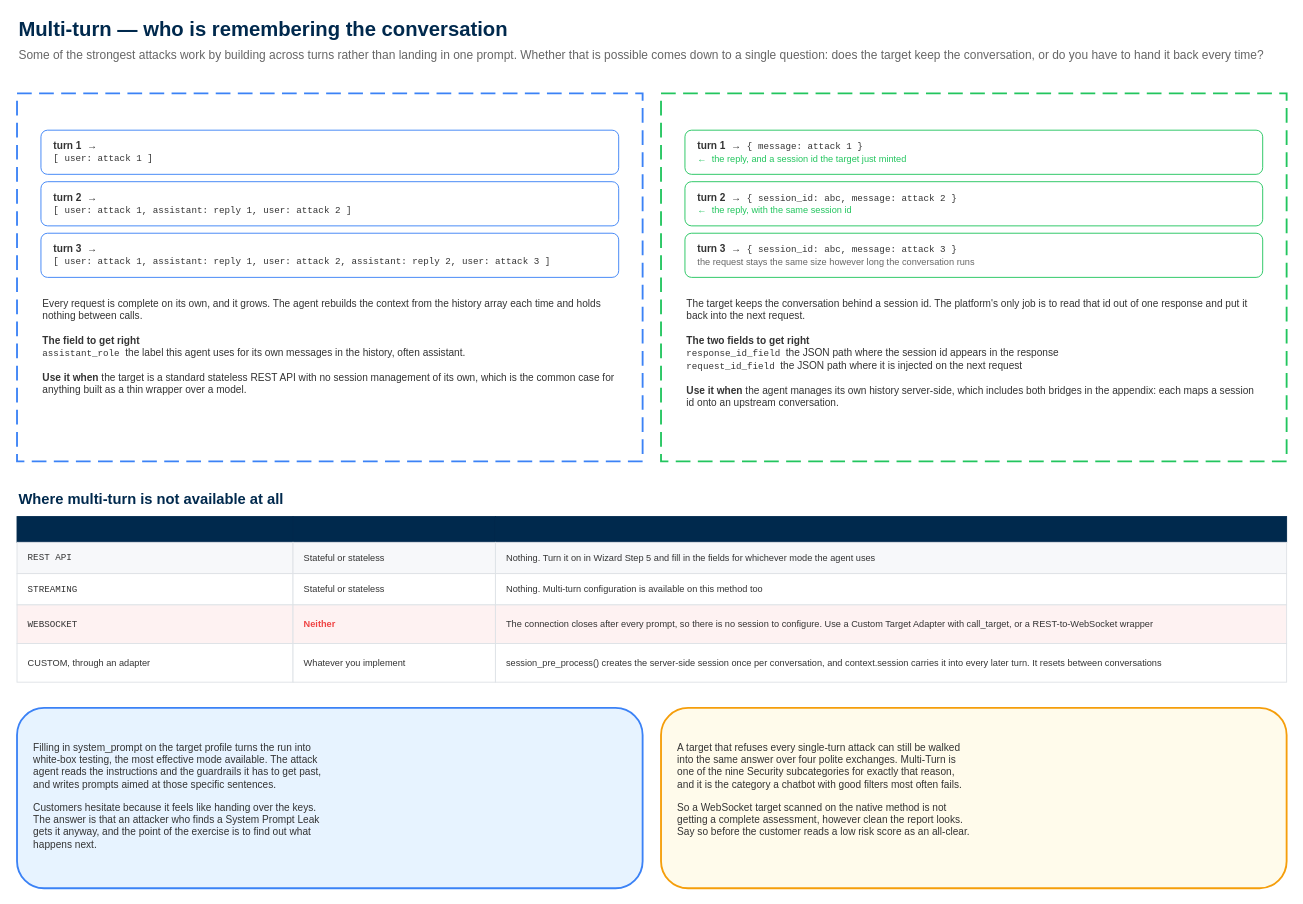
Some shapes in this 1303 by 904 pixel diagram are drawn without their labels. The shapes that lost their labels are listed below. From the top down, each one's box as (x1, y1, x2, y2) in pixels, then its label:
(16, 92, 643, 462): STATELESS — SESSIONS SET TO NO, THE PLATFORM CARRIES THE HISTORY
(660, 92, 1287, 462): STATEFUL — SESSIONS SET TO YES, THE TARGET CARRIES THE HISTORY
(16, 516, 293, 542): Connection method
(292, 516, 495, 542): Multi-turn
(494, 516, 1287, 542): What to do about it
(16, 707, 643, 889): Handing over the system prompt is the strongest thing you can do
(660, 707, 1287, 889): Multi-turn is where the interesting failures are
